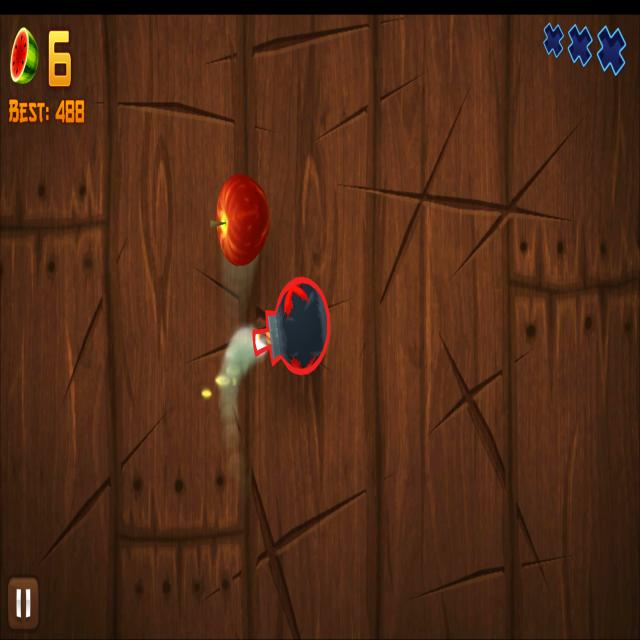bomb: (253, 275, 331, 376)
fruit: (218, 174, 270, 266)
